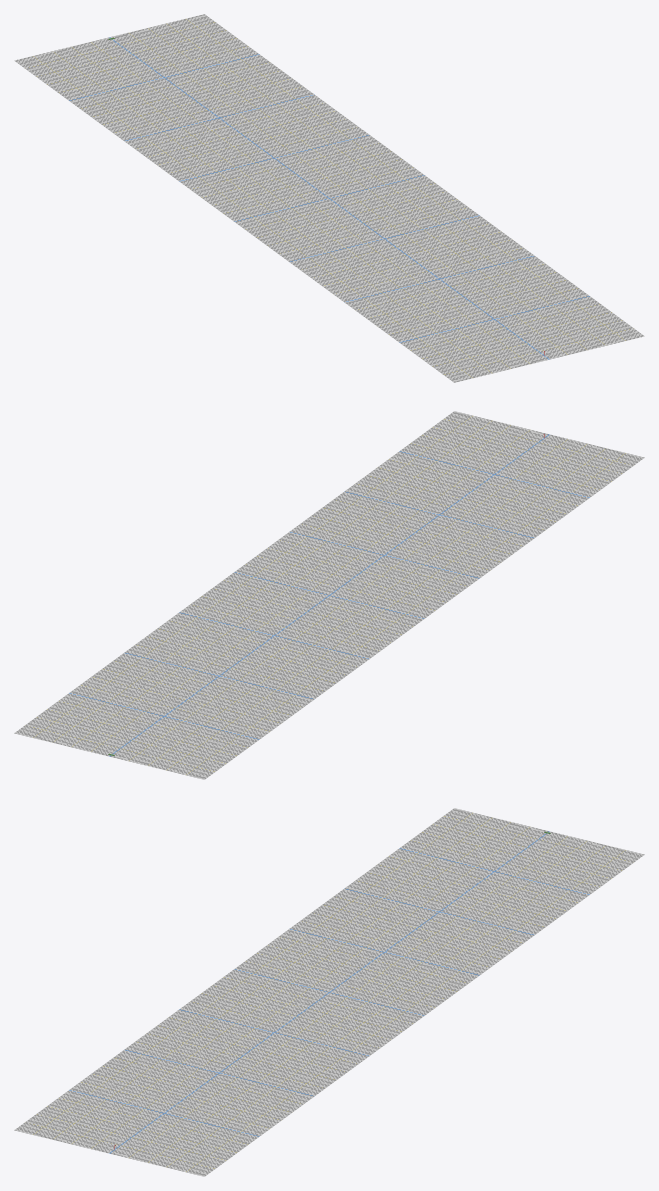
3 renders of one model, top to bottom at view 1: azimuth 30°, elevation 25°; view 2: azimuth 150°, elevation 25°; view 3: azimuth 330°, elevation 25°, orthographic.
Parts seen in each view (by area): view 1: test_grid_plane; view 2: test_grid_plane; view 3: test_grid_plane.
Boxes of the visible parts, left/top/right/bottom form: test_grid_plane: left=14, top=14, right=644, bottom=382; test_grid_plane: left=14, top=411, right=644, bottom=779; test_grid_plane: left=14, top=808, right=644, bottom=1176.
Bounding box in the file's own units: 100 × 2.3 × 400.
Materials: 5 (1 with a texture image).
